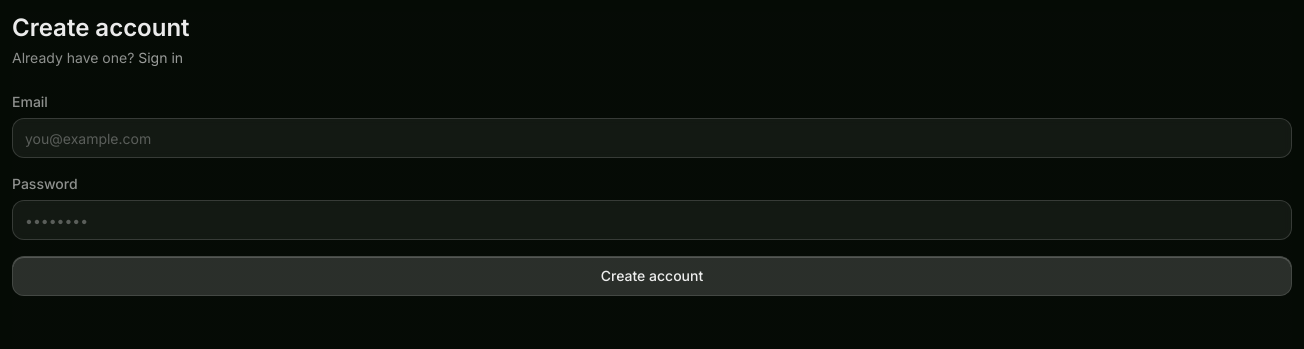
Scenario: SignupPage › shows a server error message on failed signup
The image size is (1304, 349).
Type "test@example.com" into the field labelled "Email" at (652, 138), box [12,118,1292,158]
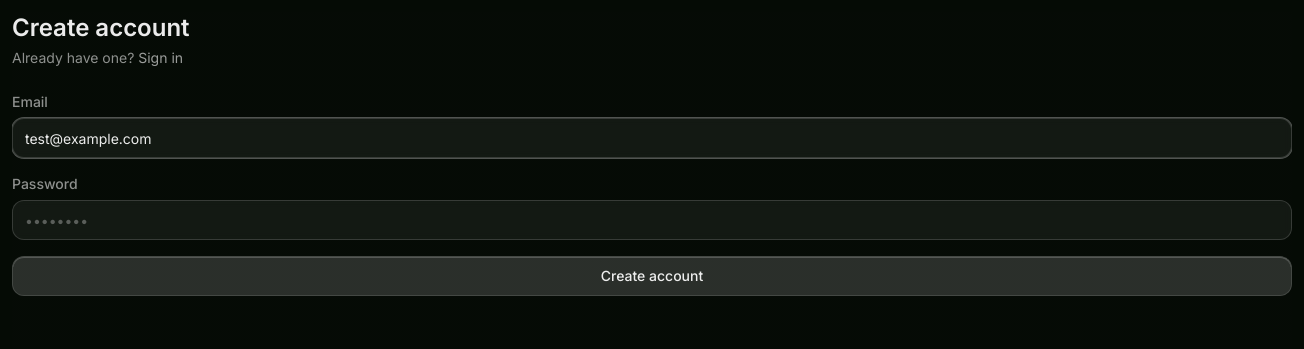
Type "password123" into the password field labelled "Password" at (652, 220), box [12,200,1292,240]
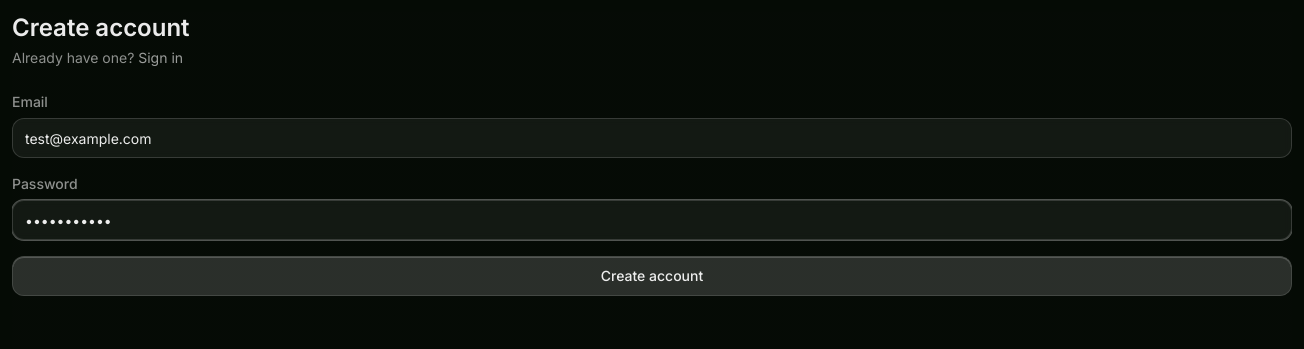
Click the button "Create account" at (652, 276), box [12,256,1292,296]
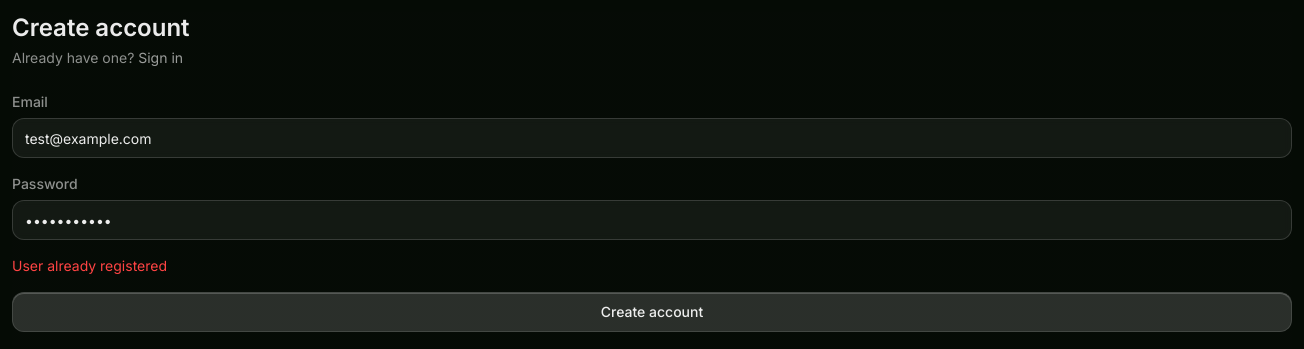
Expected: the text "User already registered" is shown, [12,257,167,274]
